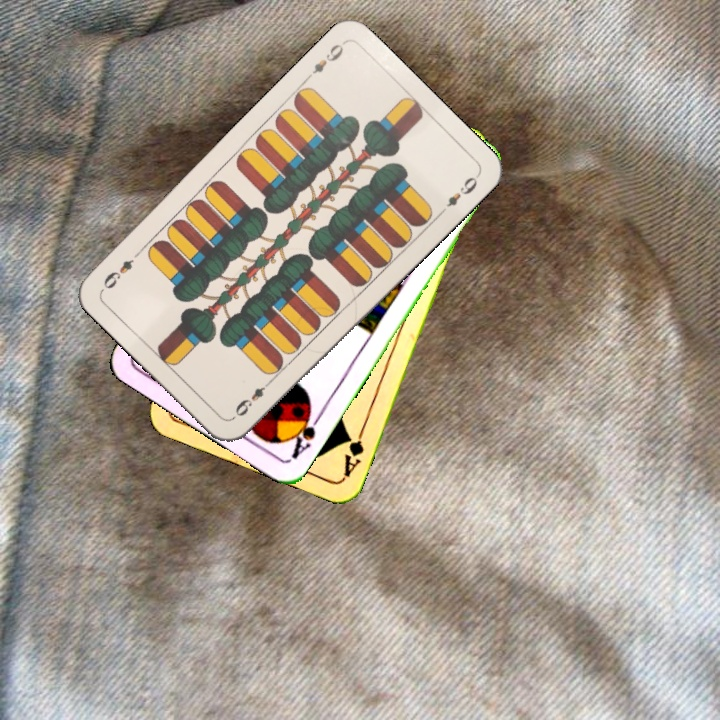E9: (300, 38, 347, 84), (229, 375, 275, 421)
GA: (339, 423, 367, 480)
SA: (283, 403, 326, 462)
